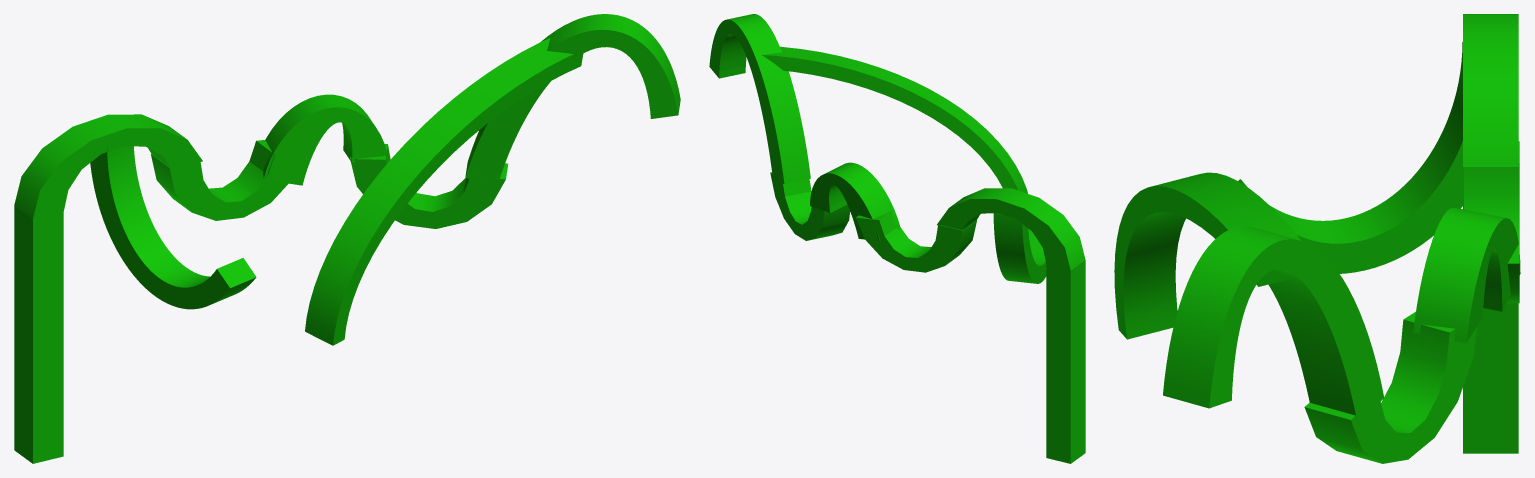
Rendered from Vine 4.fbx.
3 renders of one model, left to right at view 1: azimuth 30°, elevation 25°; view 2: azimuth 150°, elevation 25°; view 3: azimuth 270°, elevation 25°, orthographic. The views are drawn at different scales.
Visible parts, largest first — view 1: Arch__10_, Arch__29_, Arch__7_, Arch__14_, Arch__12_, Arch__11_, Arch__13_; view 2: Arch__10_, Arch__14_, Arch__29_, Arch__11_, Arch__12_, Arch__7_, Arch__13_; view 3: Arch__14_, Arch__10_, Arch__29_, Arch__13_, Arch__7_, Arch__12_, Arch__11_.
Boxes of the visible parts, left/top/right/bottom form: Arch__10_: left=14, top=114, right=202, bottom=463; Arch__29_: left=305, top=38, right=583, bottom=345; Arch__7_: left=90, top=146, right=256, bottom=309; Arch__14_: left=465, top=14, right=680, bottom=178; Arch__12_: left=263, top=94, right=388, bottom=185; Arch__11_: left=151, top=140, right=288, bottom=220; Arch__13_: left=350, top=144, right=508, bottom=228; Arch__10_: left=937, top=188, right=1085, bottom=463; Arch__14_: left=709, top=14, right=810, bottom=183; Arch__29_: left=762, top=46, right=1027, bottom=193; Arch__11_: left=856, top=211, right=976, bottom=272; Arch__12_: left=810, top=162, right=900, bottom=241; Arch__7_: left=993, top=213, right=1046, bottom=283; Arch__13_: left=770, top=172, right=850, bottom=240; Arch__14_: left=1163, top=226, right=1384, bottom=425; Arch__10_: left=1463, top=14, right=1518, bottom=453; Arch__29_: left=1114, top=172, right=1300, bottom=339; Arch__13_: left=1304, top=311, right=1477, bottom=463; Arch__7_: left=1238, top=42, right=1463, bottom=273; Arch__12_: left=1413, top=207, right=1520, bottom=343; Arch__11_: left=1464, top=141, right=1519, bottom=303.
Size of the model in its own units: 1732 by 1099 by 730.
